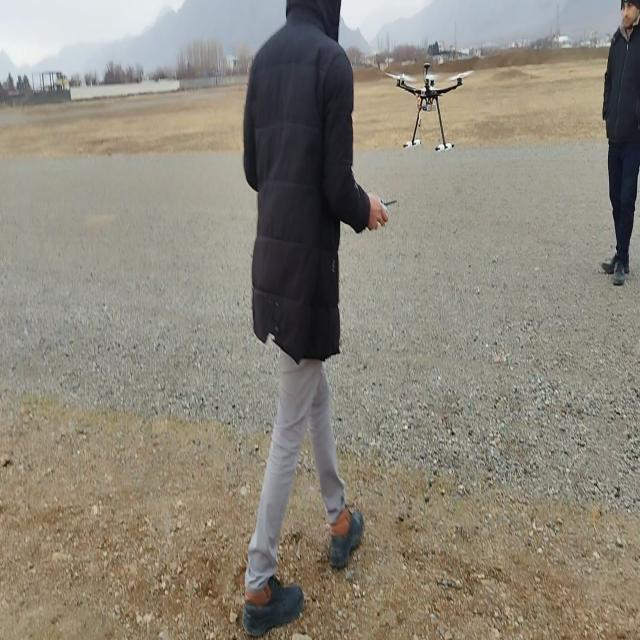drone: (384, 62, 474, 154)
